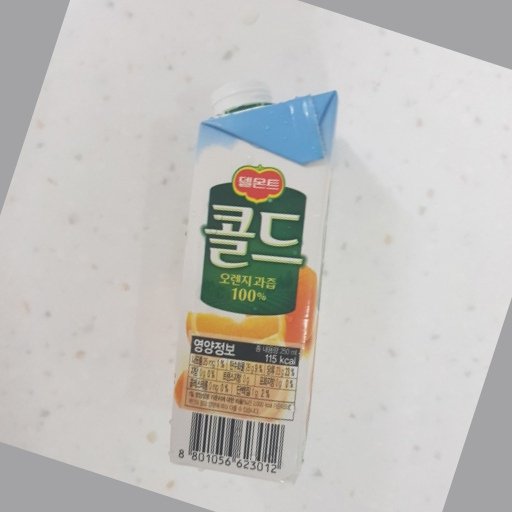Paper_0: (166, 89, 344, 487)
